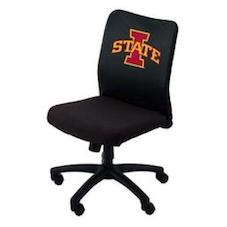chair: (20, 8, 183, 218)
